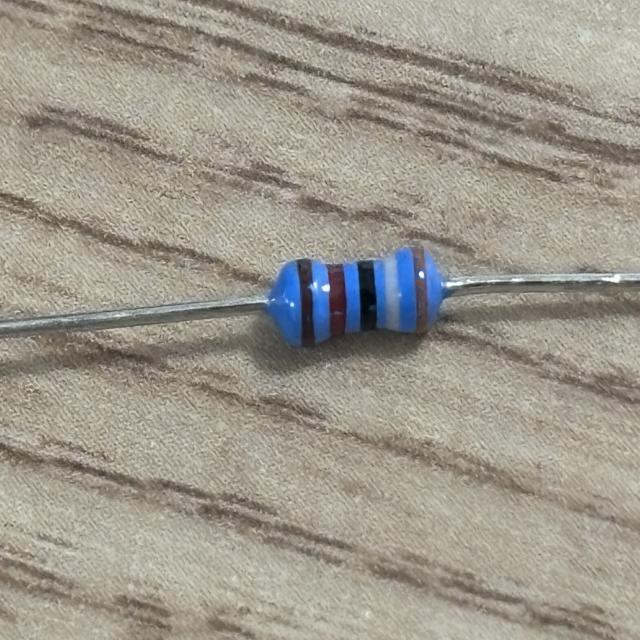resistor: (279, 239, 440, 354)
